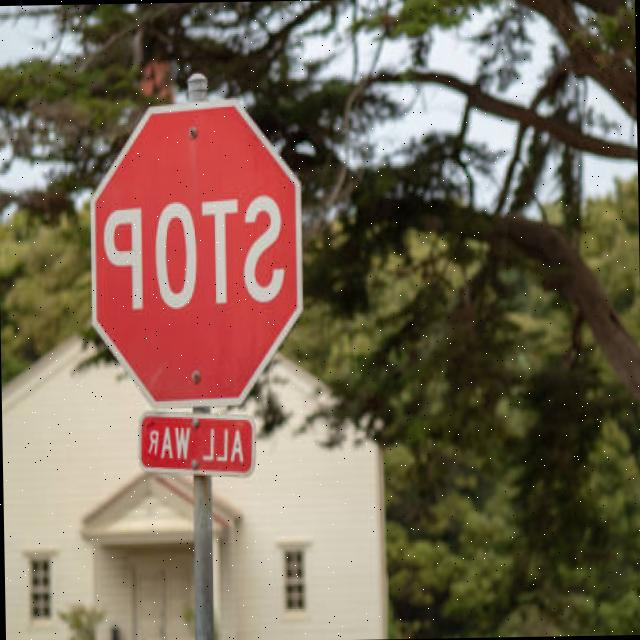stop: (82, 91, 310, 412)
